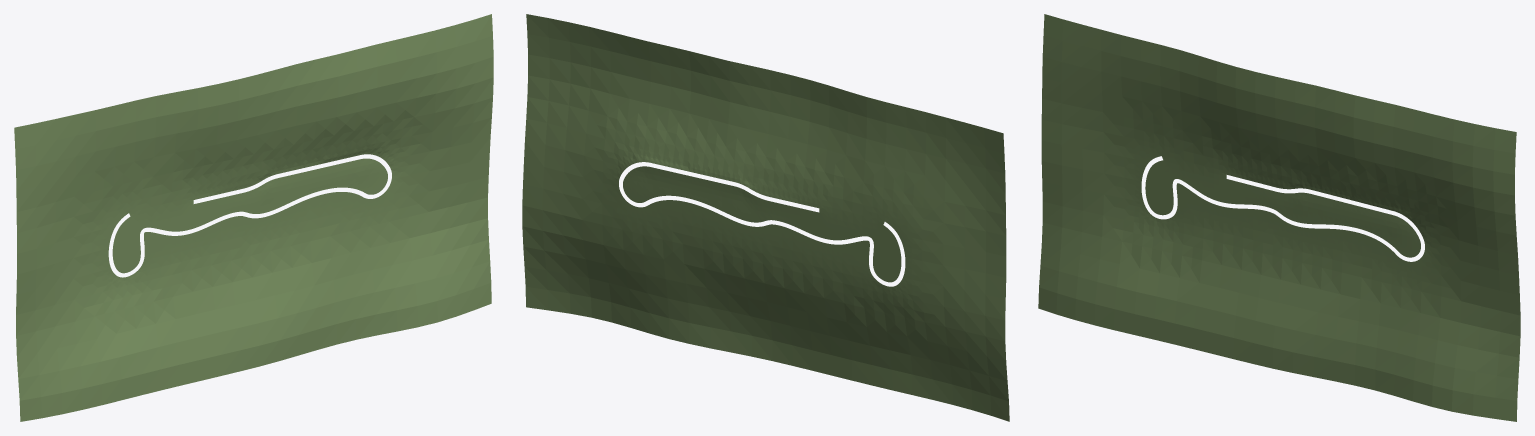
The model's file is GeneratedTerrain.obj.
The picture shows the model from 3 angles, left to right: view 1: azimuth 30°, elevation 25°; view 2: azimuth 150°, elevation 25°; view 3: azimuth 330°, elevation 25°; orthographic projection.
Parts seen in each view (by area): view 1: Background; view 2: Background; view 3: Background.
Part boxes in pixels (x1,y1,x2,y2): Background: (14,14,493,421); Background: (522,14,1009,421); Background: (1038,14,1520,421).
Size of the model in its own units: 960 by 560 by 37.31.
